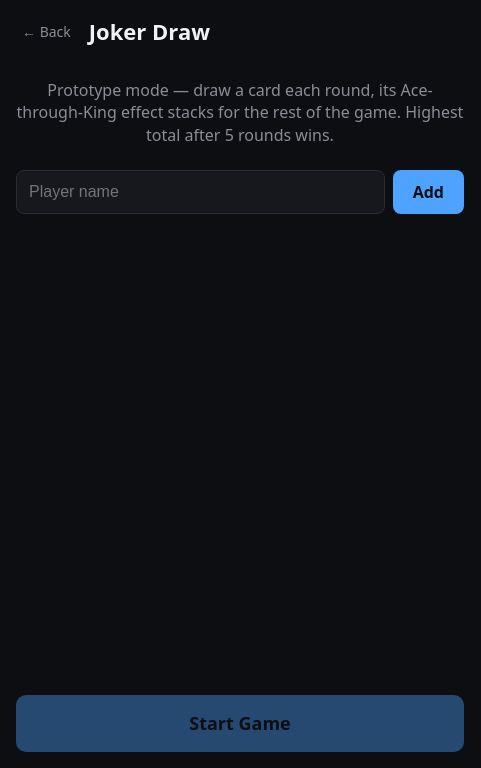
Test: setup screen › disables Start Game until a player is added, and supports remove
Check: the heading "Joker Draw" is shown, box x1=89 y1=16 x2=210 y2=47
Check: the button "Start Game" is disabled, box x1=16 y1=695 x2=464 y2=752
Type "Alice" into the field with placeholder "Player name" at (200, 192), box x1=16 y1=170 x2=385 y2=214
Then press Enter
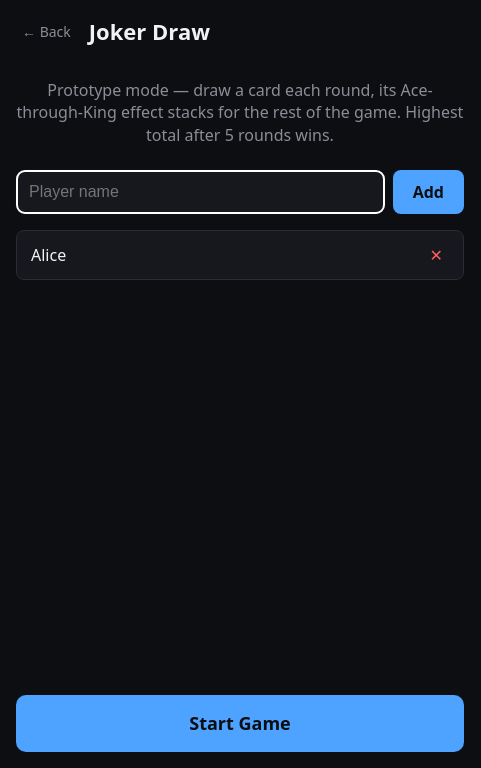
Check: the text "Alice" is shown, box x1=31 y1=244 x2=66 y2=266
Check: the button "Start Game" is enabled, box x1=16 y1=695 x2=464 y2=752
Click the button "✕" at (436, 255), box x1=424 y1=243 x2=449 y2=267
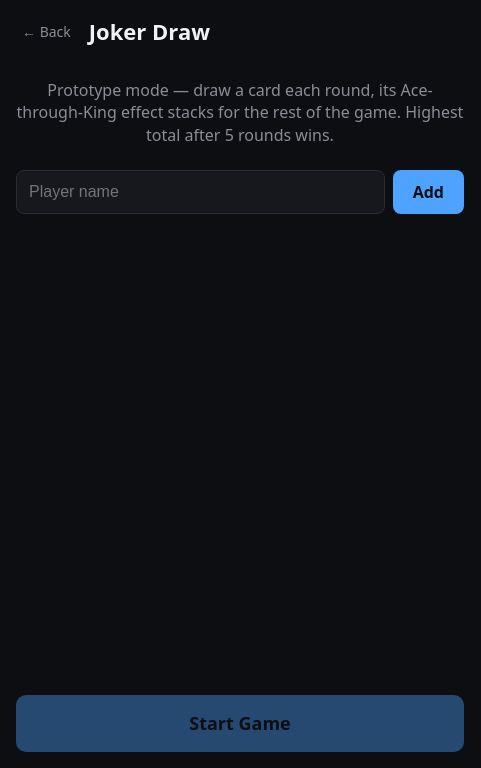
Check: the text "Alice" is gone
Check: the button "Start Game" is disabled, box x1=16 y1=695 x2=464 y2=752
